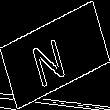N_N: (35, 24, 75, 86)
